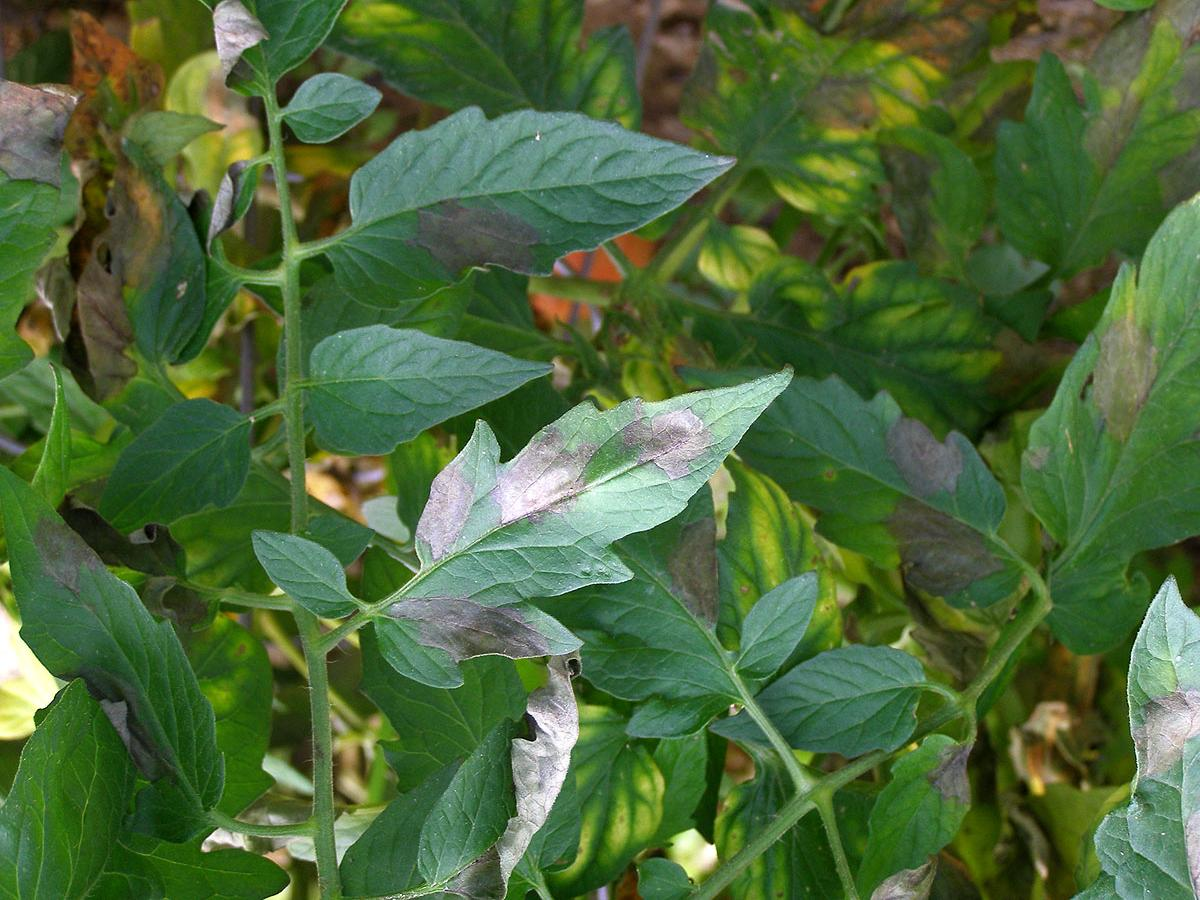Tomato leaf late blight: (356, 382, 788, 664), (1, 431, 232, 839), (1010, 190, 1200, 670), (312, 101, 748, 290), (713, 378, 1024, 622), (116, 148, 209, 392), (852, 722, 985, 890)
